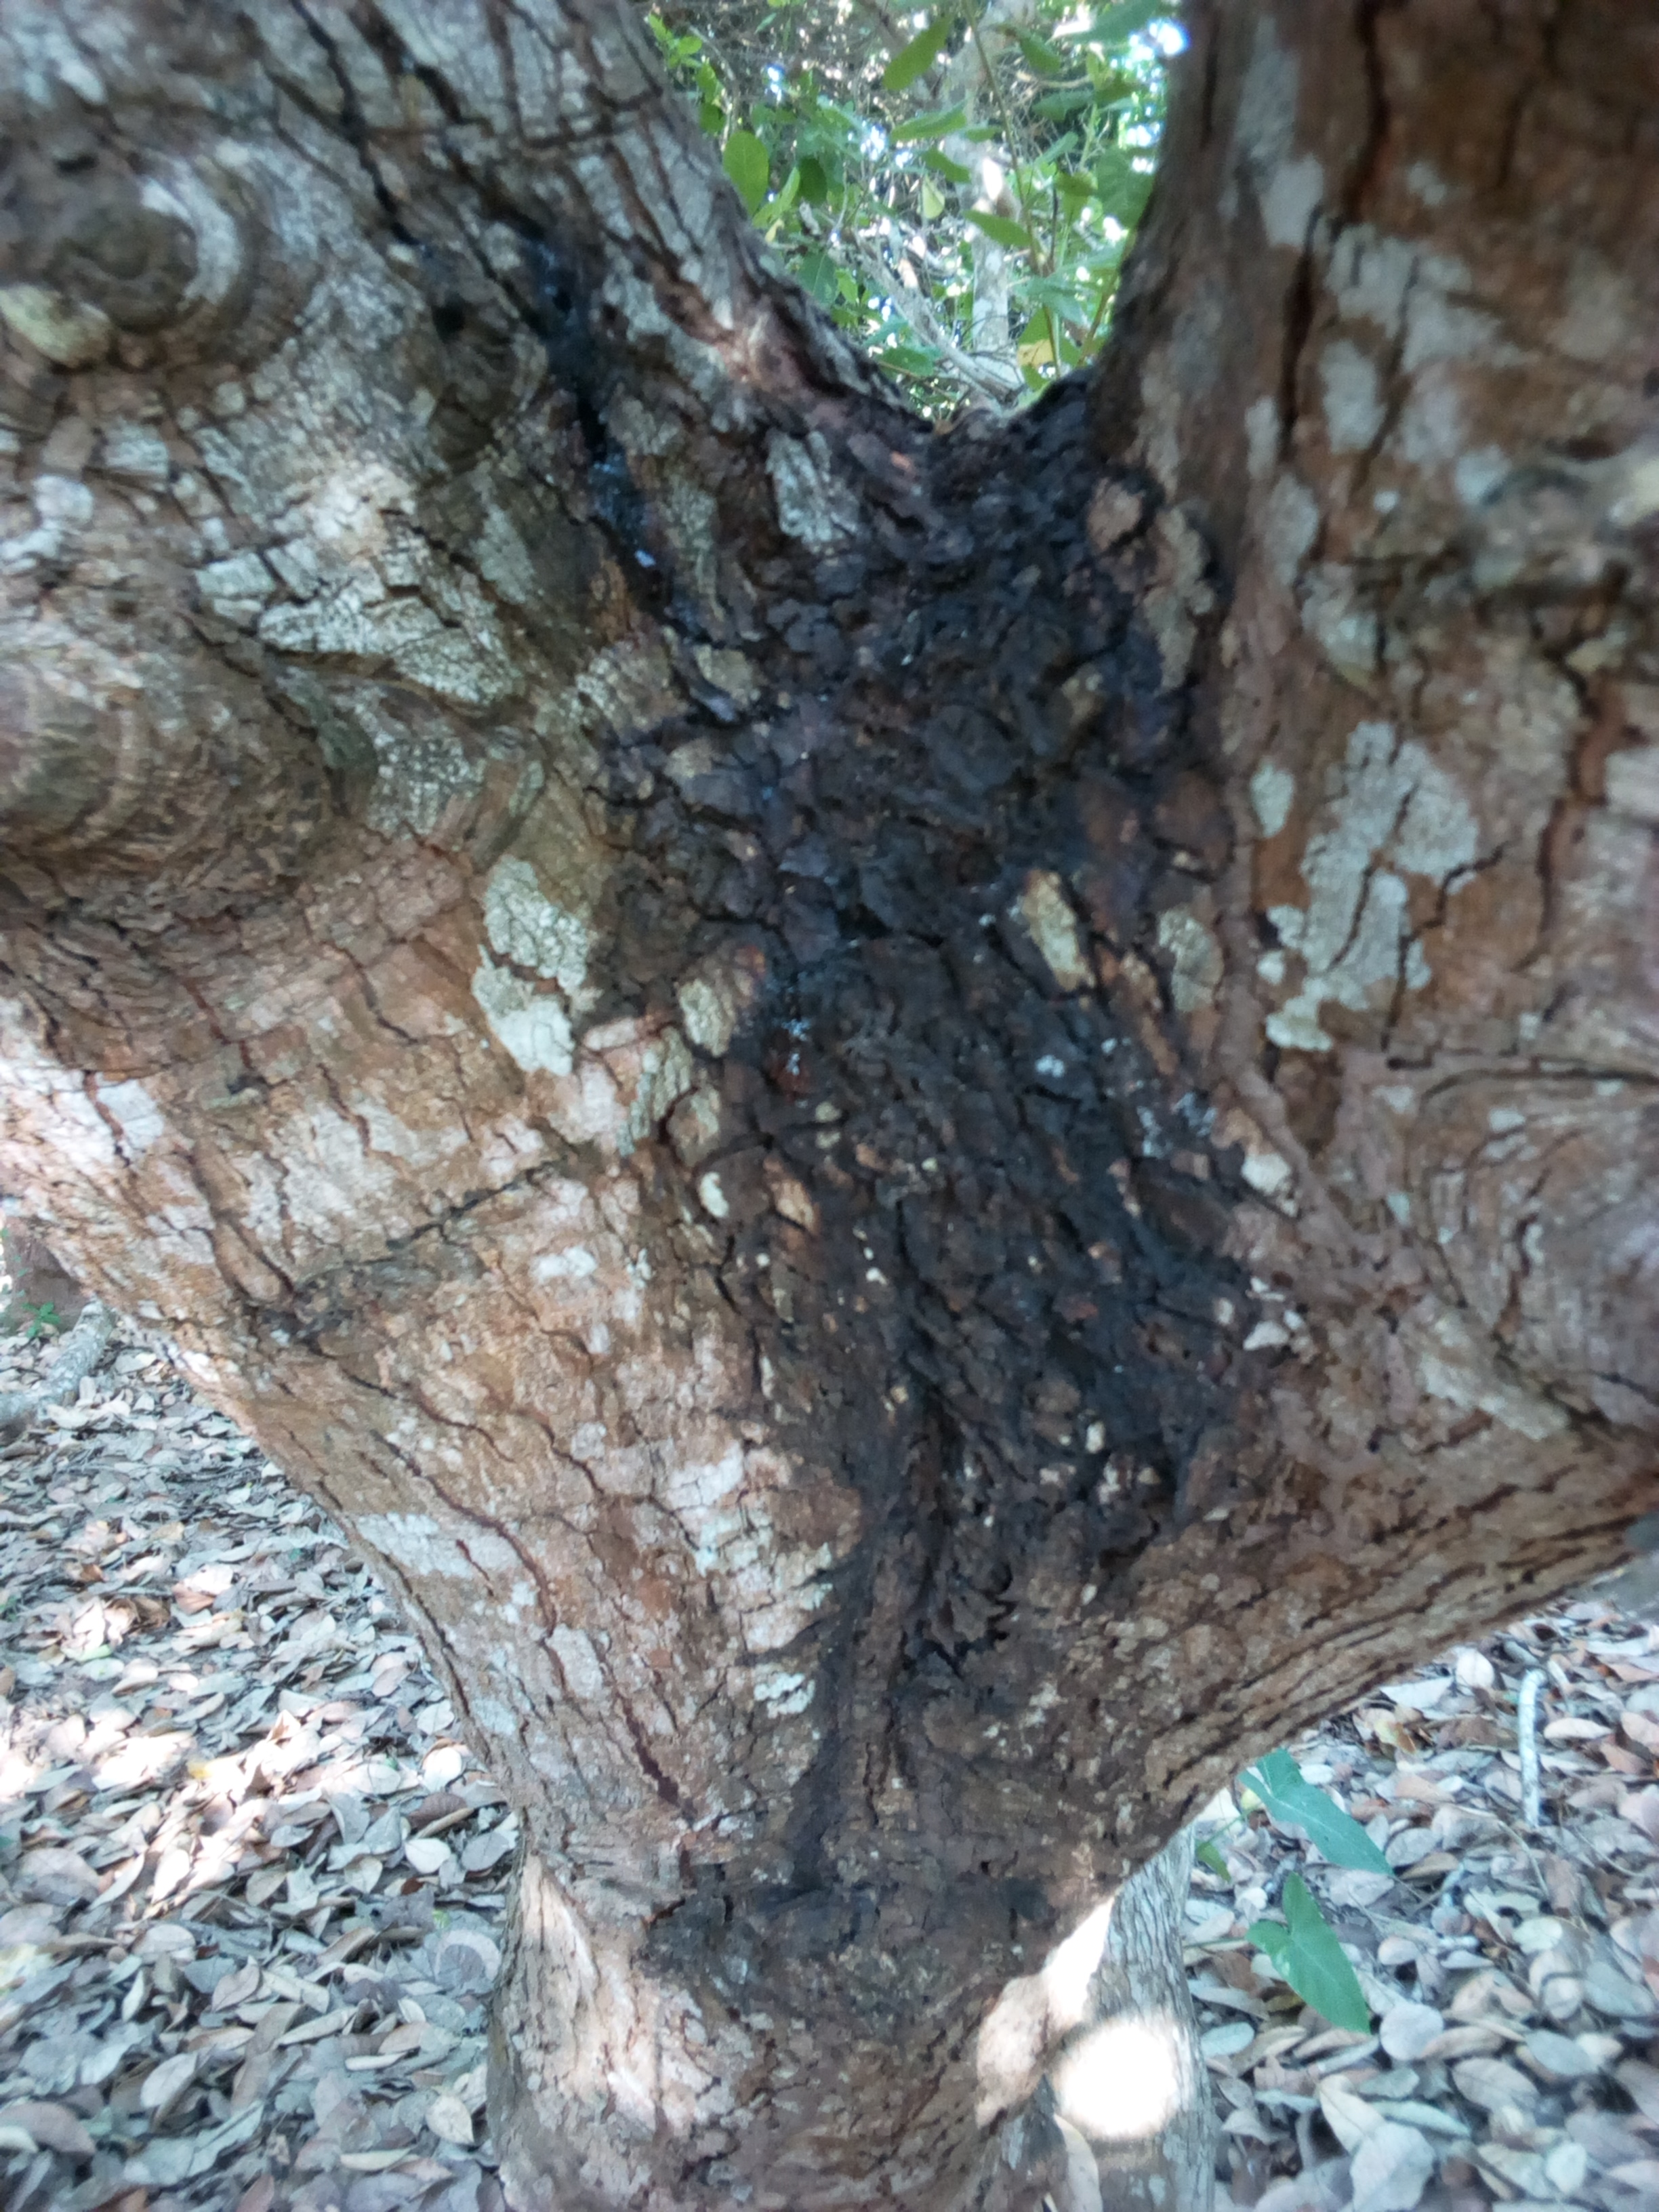Gommose: (436, 150, 1342, 1888)
